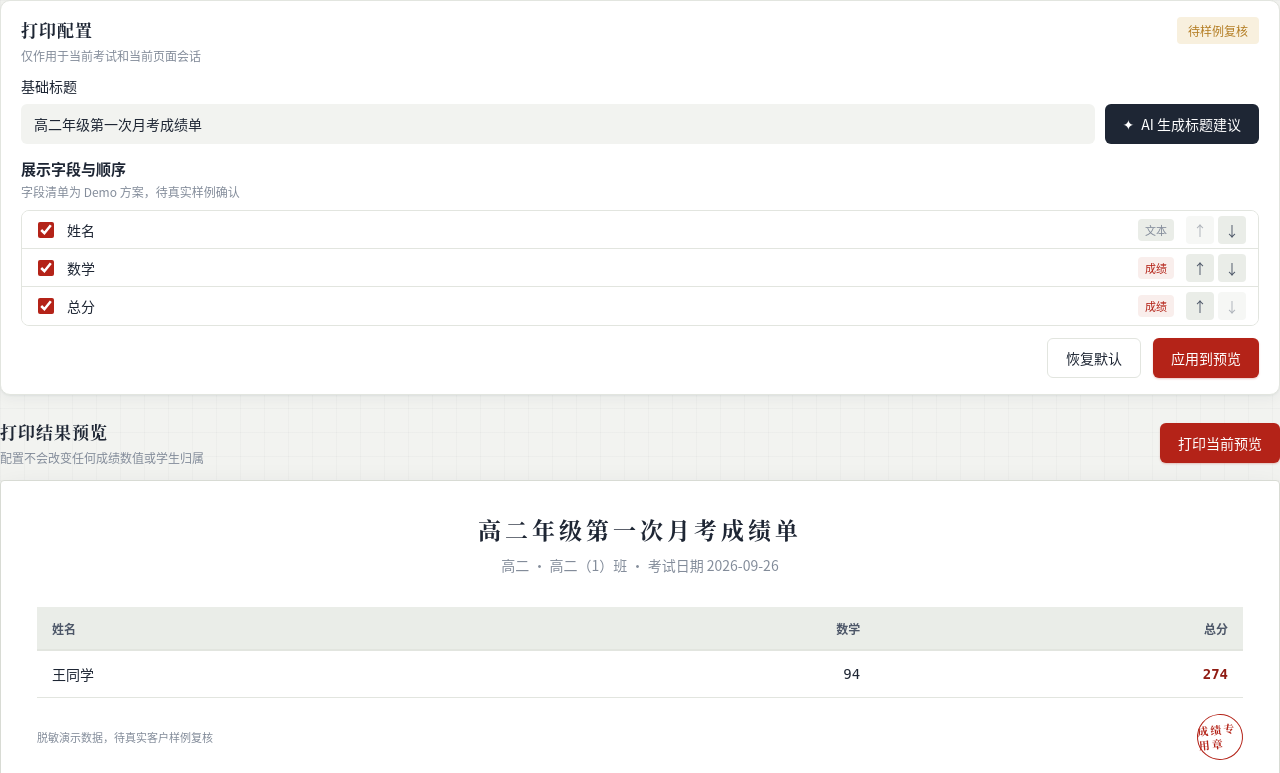
Test: PRD-first pages › shows whether a title came from the provider or fallback
The image size is (1280, 773).
Click the button "AI 生成标题建议" at (1182, 124), box [1104,104,1259,144]
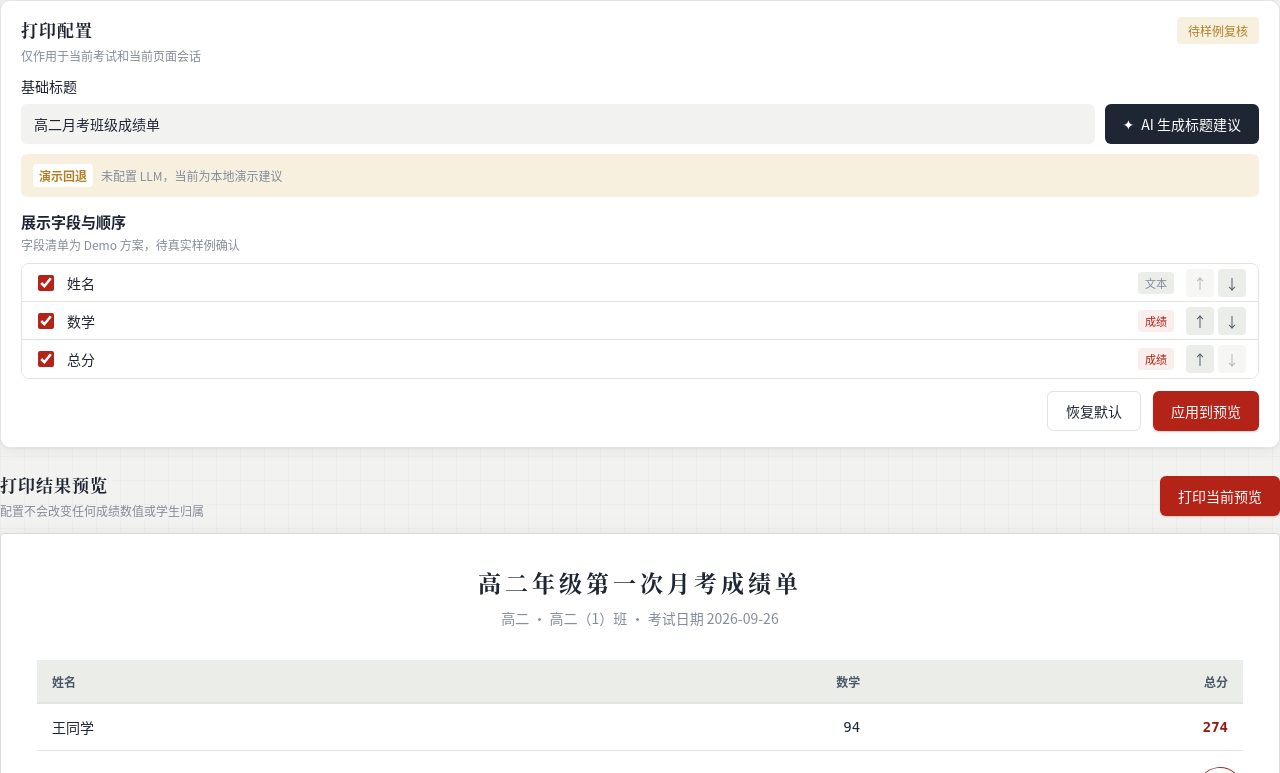
Check: the field labelled "基础标题" holds "高二月考班级成绩单", box [21,104,1094,144]
Check: the text "未配置 LLM，当前为本地演示建议" is shown, box [101,167,282,184]
